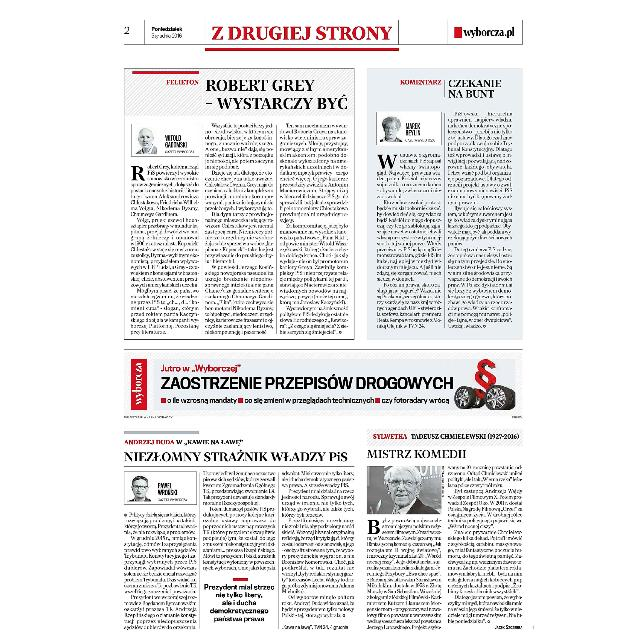article: (126, 68, 354, 340), (122, 430, 358, 632), (366, 68, 524, 340), (366, 428, 526, 632)
